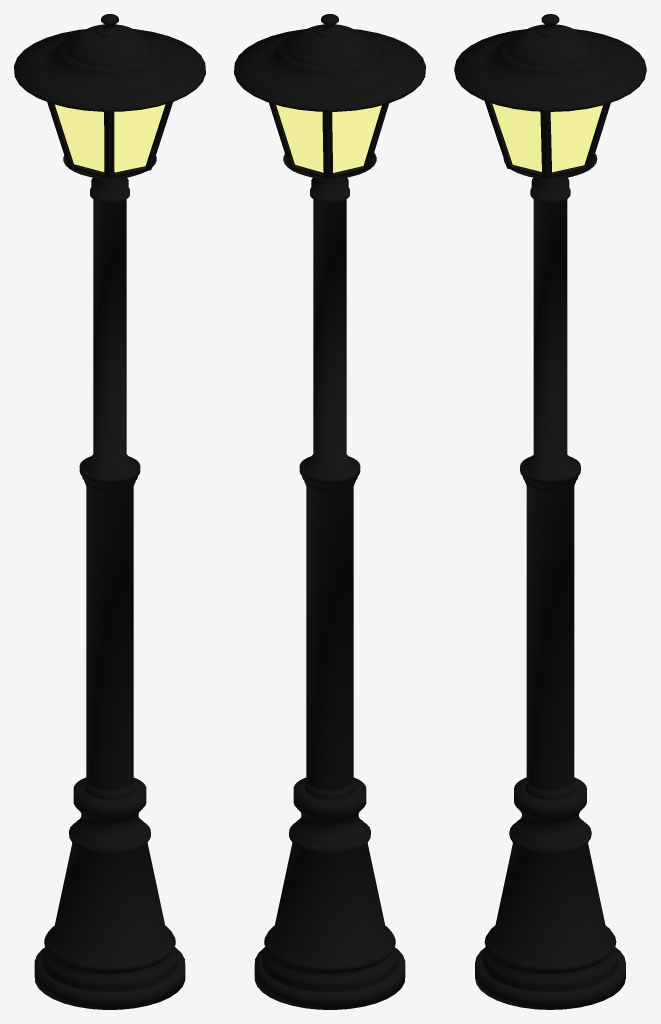
Rendered from Street_lamp_glowy.glb.
3 views of the same model, side by side, from view 1: azimuth 30°, elevation 25°; view 2: azimuth 150°, elevation 25°; view 3: azimuth 270°, elevation 25° (orthographic).
Visible parts, largest first — view 1: Cylinder.001_2; view 2: Cylinder.001_2; view 3: Cylinder.001_2.
Boxes of the visible parts, bbox=[...] form: Cylinder.001_2: bbox=[14, 14, 205, 1009]; Cylinder.001_2: bbox=[234, 14, 425, 1009]; Cylinder.001_2: bbox=[454, 14, 646, 1009].
Bounding box in the file's own units: 0.8728 × 4.82 × 0.8728.
